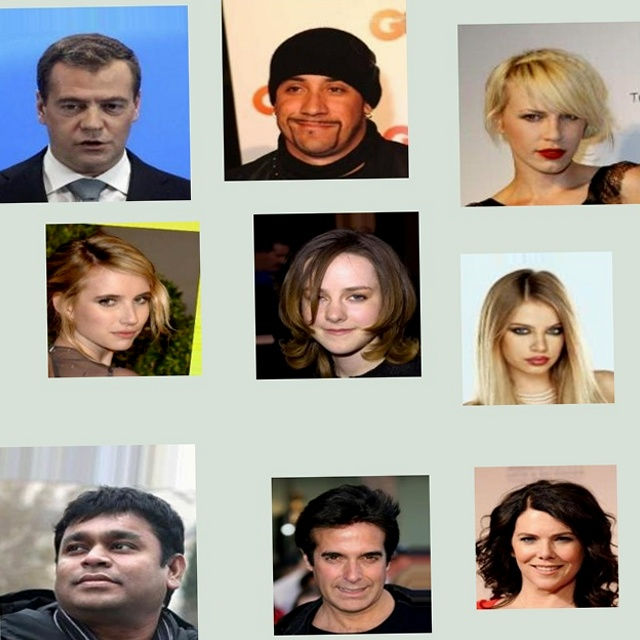celeb_10002: (460, 259, 614, 413)
celeb_2336: (263, 476, 424, 636)
celeb_2619: (0, 0, 198, 196)
celeb_2970: (46, 215, 203, 371)
celeb_3: (229, 0, 417, 181)
celeb_4422: (254, 212, 422, 380)
celeb_5695: (467, 472, 612, 617)
celeb_7: (0, 437, 191, 638)
celeb_797: (464, 29, 640, 215)
